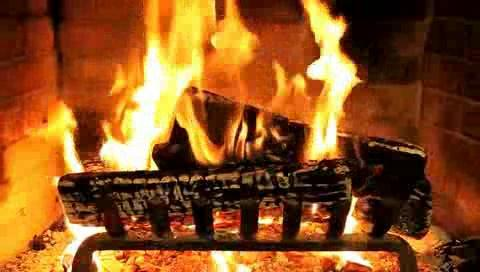fire: (101, 4, 351, 170)
